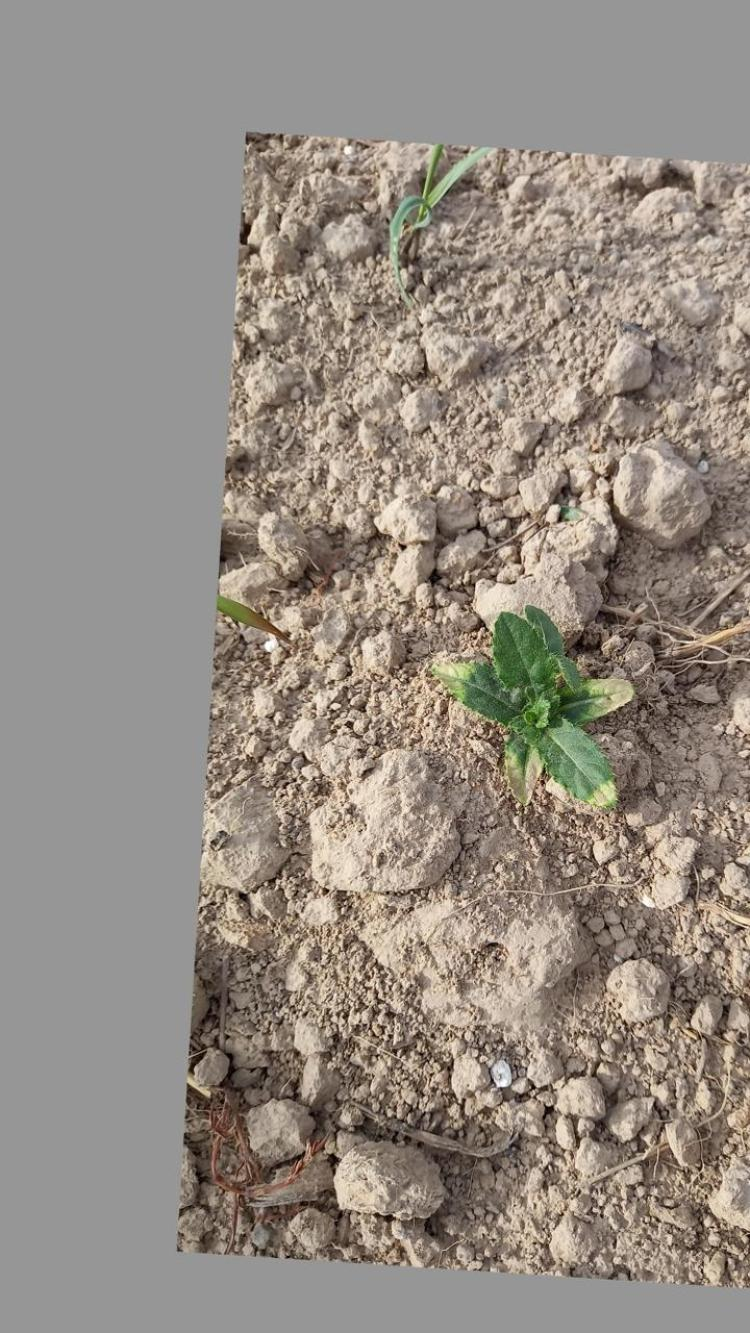bodyak: (435, 600, 646, 827)
